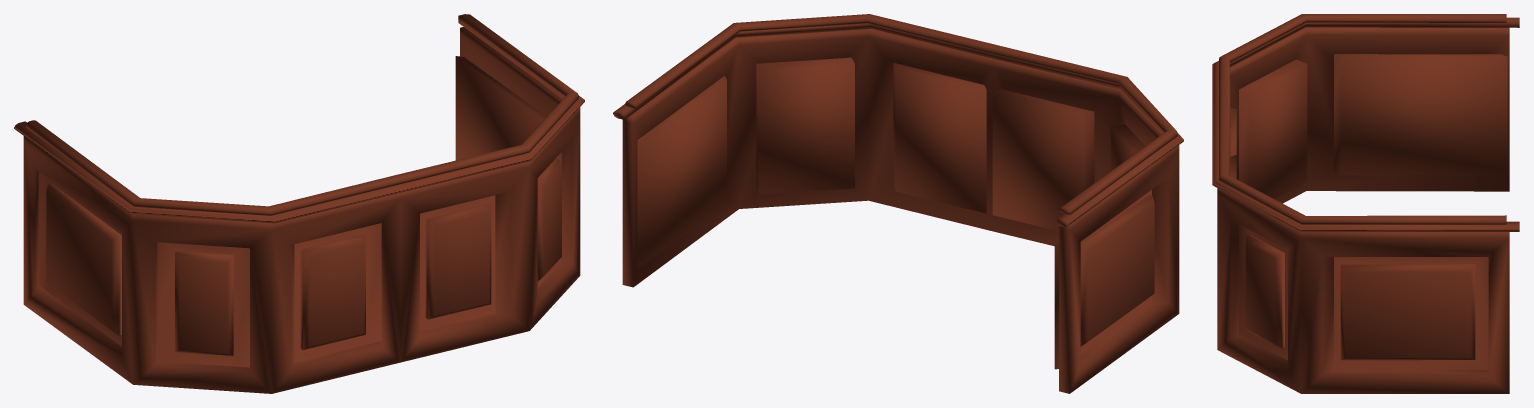
The model's file is hakim masa önü smoothfbx 1.fbx.
3 renders of one model, left to right at view 1: azimuth 30°, elevation 25°; view 2: azimuth 150°, elevation 25°; view 3: azimuth 270°, elevation 25°, orthographic. The views are drawn at different scales.
Parts seen in each view (by area): view 1: Plane.001; view 2: Plane.001; view 3: Plane.001.
Part boxes in pixels (x1,y1,x2,y2): Plane.001: (14, 14, 584, 393); Plane.001: (613, 14, 1183, 393); Plane.001: (1212, 14, 1519, 393).
Size of the model in its own units: 778 by 299 by 478.
